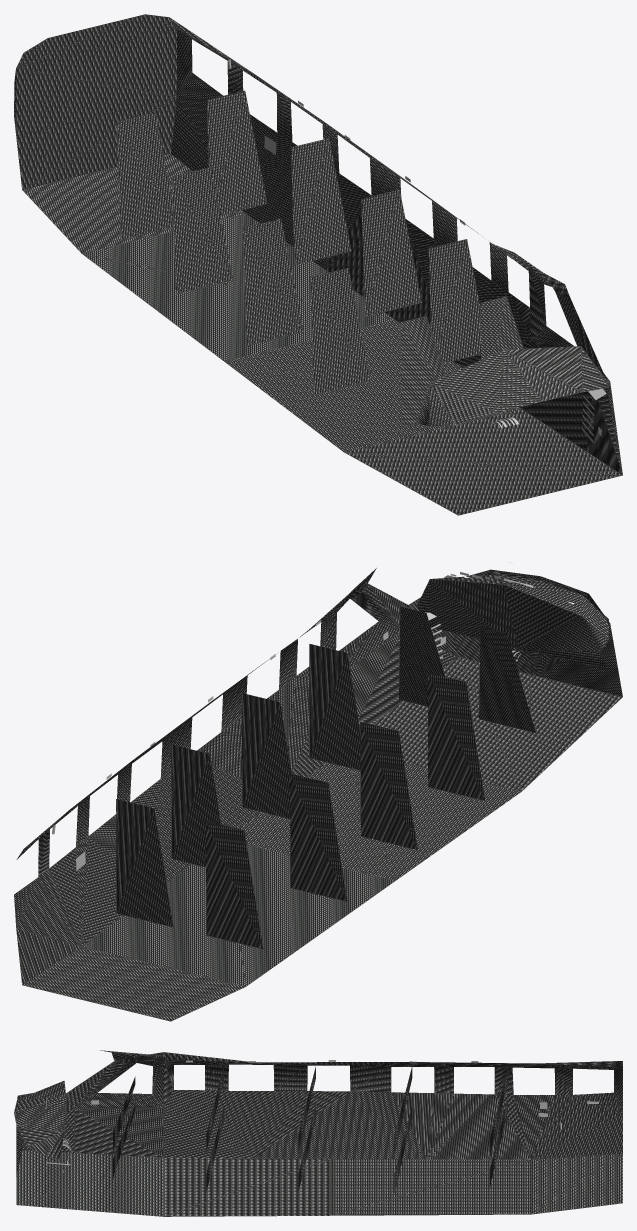
The model's file is 208B_GRAND_CARAVAN_EX_INTERIOR_LOD05.gltf.
3 views of the same model, one above another, from view 1: azimuth 30°, elevation 25°; view 2: azimuth 150°, elevation 25°; view 3: azimuth 270°, elevation 25° (orthographic). The views are drawn at different scales.
Parts seen in each view (by area): view 1: BACK; view 2: BACK; view 3: BACK, DECALS_NotEmissive.
Part boxes in pixels (x1,y1,x2,y2): BACK: [14, 14, 622, 515]; BACK: [14, 568, 622, 1021]; BACK: [14, 1050, 622, 1216]; DECALS_NotEmissive: [91, 1060, 598, 1129].
Bounding box in the file's own units: 1.77 × 1.4 × 6.42.
